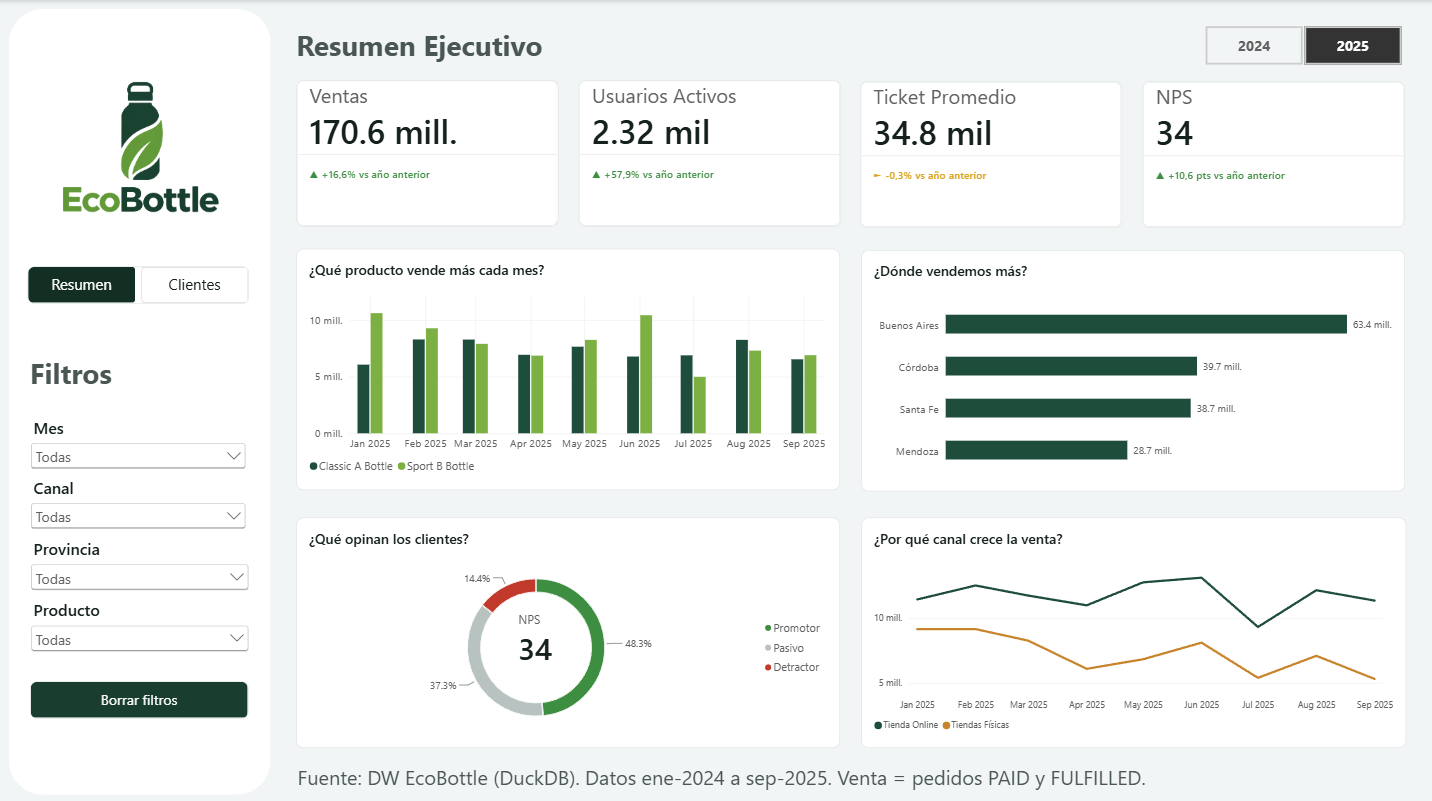

Layout of this report page (visuals, bound fields, positions):
{"tool":"powerbi","page":{"name":"Resumen","canvas":[1920,1080],"ordinal":0},"visuals":[{"type":"cardVisual","fields":{"Data":["fact_sales_order.Ventas"]},"box":[396,107.6,350,196],"z":0},{"type":"cardVisual","fields":{"Data":["fact_web_session.Usuarios Activos"]},"box":[772.7,107.3,350,196],"z":1000},{"type":"cardVisual","fields":{"Data":["fact_sales_order.Ticket Promedio"]},"box":[1149.3,107.8,350,196],"z":2000},{"type":"cardVisual","fields":{"Data":["fact_nps_response.NPS"]},"box":[1526,108,350,196],"z":3000},{"type":"shape","box":[12.5,12.5,350,1050],"z":4000},{"type":"image","box":[40,42.5,295,312.5],"z":5000},{"type":"textbox","box":[40,472.5,160,65],"z":6000},{"type":"pageNavigator","box":[36,356,296,50],"z":7000},{"type":"slicer","fields":{"Values":["dim_date.month_name"]},"box":[36,556,296,80],"z":8000},{"type":"slicer","fields":{"Values":["dim_channel.name"]},"box":[36,636,296,82],"z":9000},{"type":"slicer","fields":{"Values":["dim_province.name"]},"box":[36,718,300,82],"z":10000},{"type":"slicer","fields":{"Values":["dim_product.name"]},"box":[36,800,300,110],"z":11000},{"type":"actionButton","box":[40,910,292,50],"z":12000},{"type":"textbox","box":[396,35.1,372,66],"z":13000},{"type":"clusteredColumnChart","title":"¿Qué producto vende más cada mes?","fields":{"Category":["dim_date.month_start"],"Series":["dim_product.name"],"Y":["fact_sales_order_item.Ventas Producto"]},"box":[396,333.1,726,322],"z":14000},{"type":"clusteredBarChart","title":"¿Dónde vendemos más?","fields":{"Category":["dim_province.name"],"Y":["fact_sales_order.Ventas"]},"box":[1150,334,726,322],"z":15000},{"type":"donutChart","title":"¿Qué opinan los clientes?","fields":{"Category":["fact_nps_response.nps_group"],"Y":["CountNonNull(fact_nps_response.nps_id)"]},"box":[396,691.1,726,308],"z":16000},{"type":"lineChart","title":"¿Por qué canal crece la venta?","fields":{"Category":["dim_date.month_start"],"Series":["dim_channel.name"],"Y":["fact_sales_order.Ventas"]},"box":[1150,691.1,728,308],"z":17000},{"type":"cardVisual","fields":{"Data":["fact_nps_response.NPS"]},"box":[676.4,774.5,162,160],"z":18000},{"type":"textbox","box":[398,1020,1224,54],"z":19000},{"type":"slicer","fields":{"Values":["dim_date.year"]},"box":[1590.9,34.5,300,50.9],"z":20000}]}

Visuals, with their boxes in screenshot pixels (x1, y1, x2, y2), scaled from the page's 1920x1080 canvas onto the 1432x801 screenshot:
cardVisual - fact_sales_order.Ventas: {"x1": 295, "y1": 80, "x2": 556, "y2": 225}
cardVisual - fact_web_session.Usuarios Activos: {"x1": 576, "y1": 80, "x2": 837, "y2": 225}
cardVisual - fact_sales_order.Ticket Promedio: {"x1": 857, "y1": 80, "x2": 1118, "y2": 225}
cardVisual - fact_nps_response.NPS: {"x1": 1138, "y1": 80, "x2": 1399, "y2": 225}
shape: {"x1": 9, "y1": 9, "x2": 270, "y2": 788}
image: {"x1": 30, "y1": 32, "x2": 250, "y2": 263}
textbox: {"x1": 30, "y1": 350, "x2": 149, "y2": 399}
pageNavigator: {"x1": 27, "y1": 264, "x2": 248, "y2": 301}
slicer - dim_date.month_name: {"x1": 27, "y1": 412, "x2": 248, "y2": 472}
slicer - dim_channel.name: {"x1": 27, "y1": 472, "x2": 248, "y2": 533}
slicer - dim_province.name: {"x1": 27, "y1": 533, "x2": 251, "y2": 593}
slicer - dim_product.name: {"x1": 27, "y1": 593, "x2": 251, "y2": 675}
actionButton: {"x1": 30, "y1": 675, "x2": 248, "y2": 712}
textbox: {"x1": 295, "y1": 26, "x2": 573, "y2": 75}
"¿Qué producto vende más cada mes?" clusteredColumnChart: {"x1": 295, "y1": 247, "x2": 837, "y2": 486}
"¿Dónde vendemos más?" clusteredBarChart: {"x1": 858, "y1": 248, "x2": 1399, "y2": 487}
"¿Qué opinan los clientes?" donutChart: {"x1": 295, "y1": 513, "x2": 837, "y2": 741}
"¿Por qué canal crece la venta?" lineChart: {"x1": 858, "y1": 513, "x2": 1401, "y2": 741}
cardVisual - fact_nps_response.NPS: {"x1": 504, "y1": 574, "x2": 625, "y2": 693}
textbox: {"x1": 297, "y1": 756, "x2": 1210, "y2": 797}
slicer - dim_date.year: {"x1": 1187, "y1": 26, "x2": 1410, "y2": 63}
